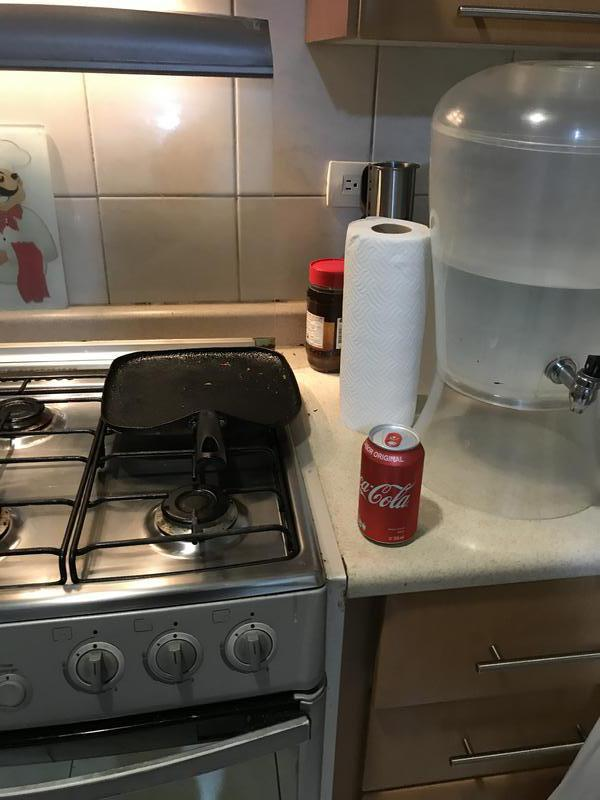coca_cola: (354, 423, 425, 545)
